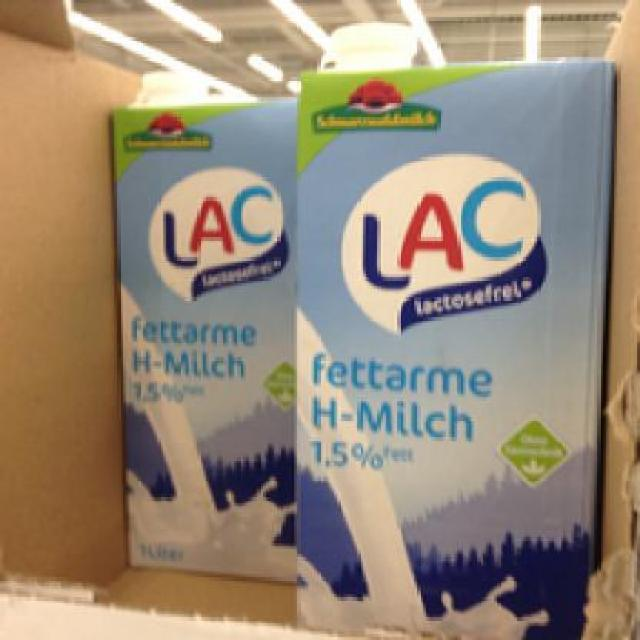Milk: (294, 22, 614, 635), (105, 66, 298, 592)
